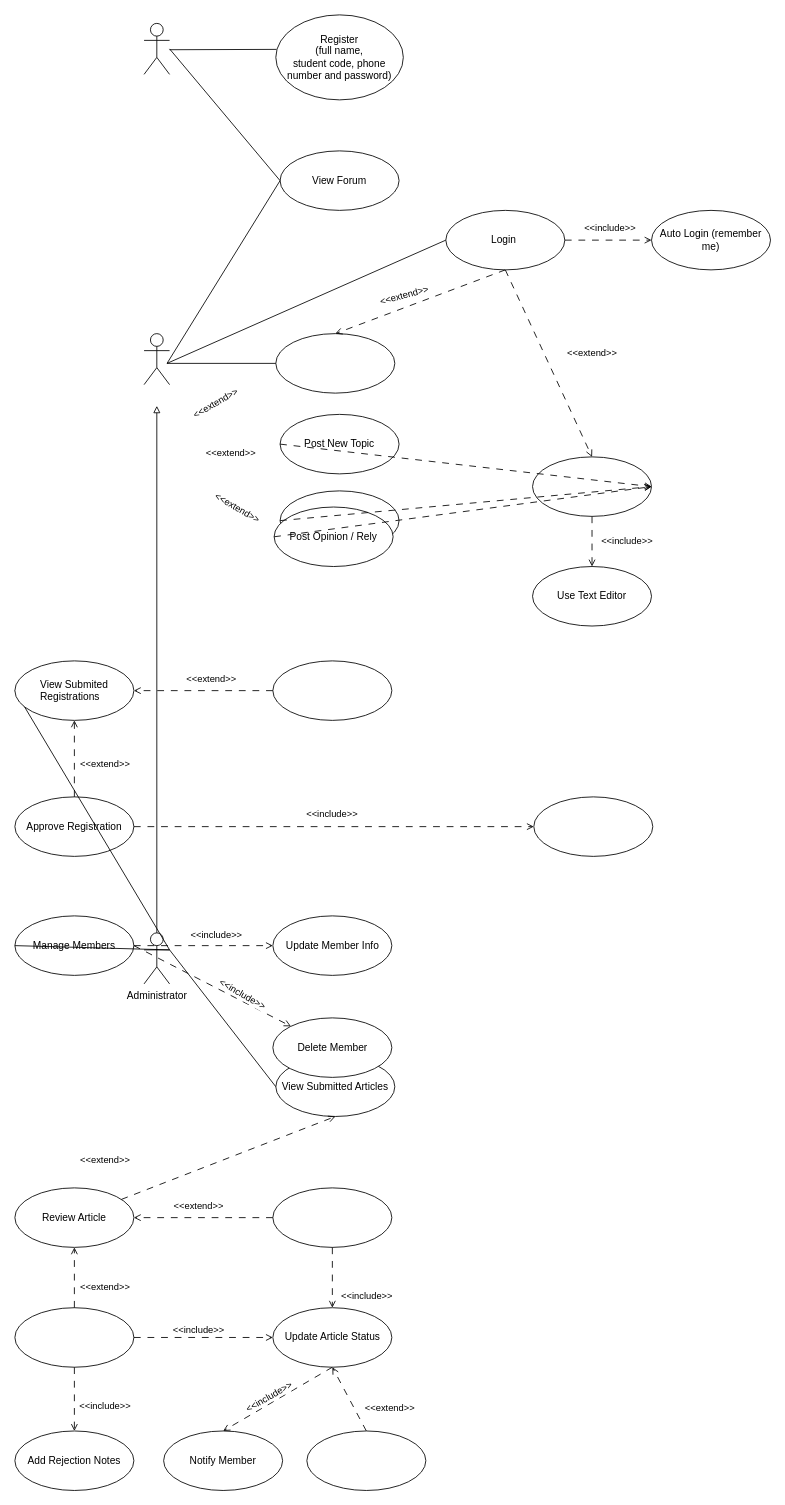
The diagram is 785 pixels wide and 1505 high, and some of its shapes have lost their labels. Each missing label, with the centre of its shape:
"Accept Article" belongs at (332,1217).
"Display On The Forum" belongs at (366,1460).
"Member" belongs at (156,359).
"Post Article" belongs at (592,486).
"Reject Article" belongs at (74,1337).
"Reject Registration" belongs at (332,690).
"Update Member Status" belongs at (593,826).
"User" belongs at (156,48).
"View Notifications" belongs at (335,363).
